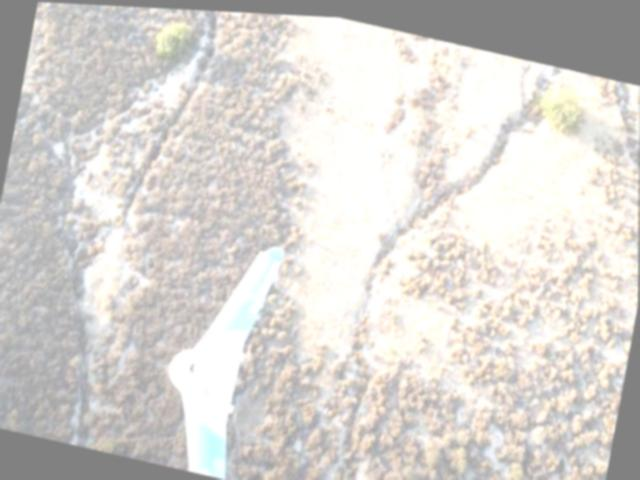iha: (154, 217, 302, 480)
